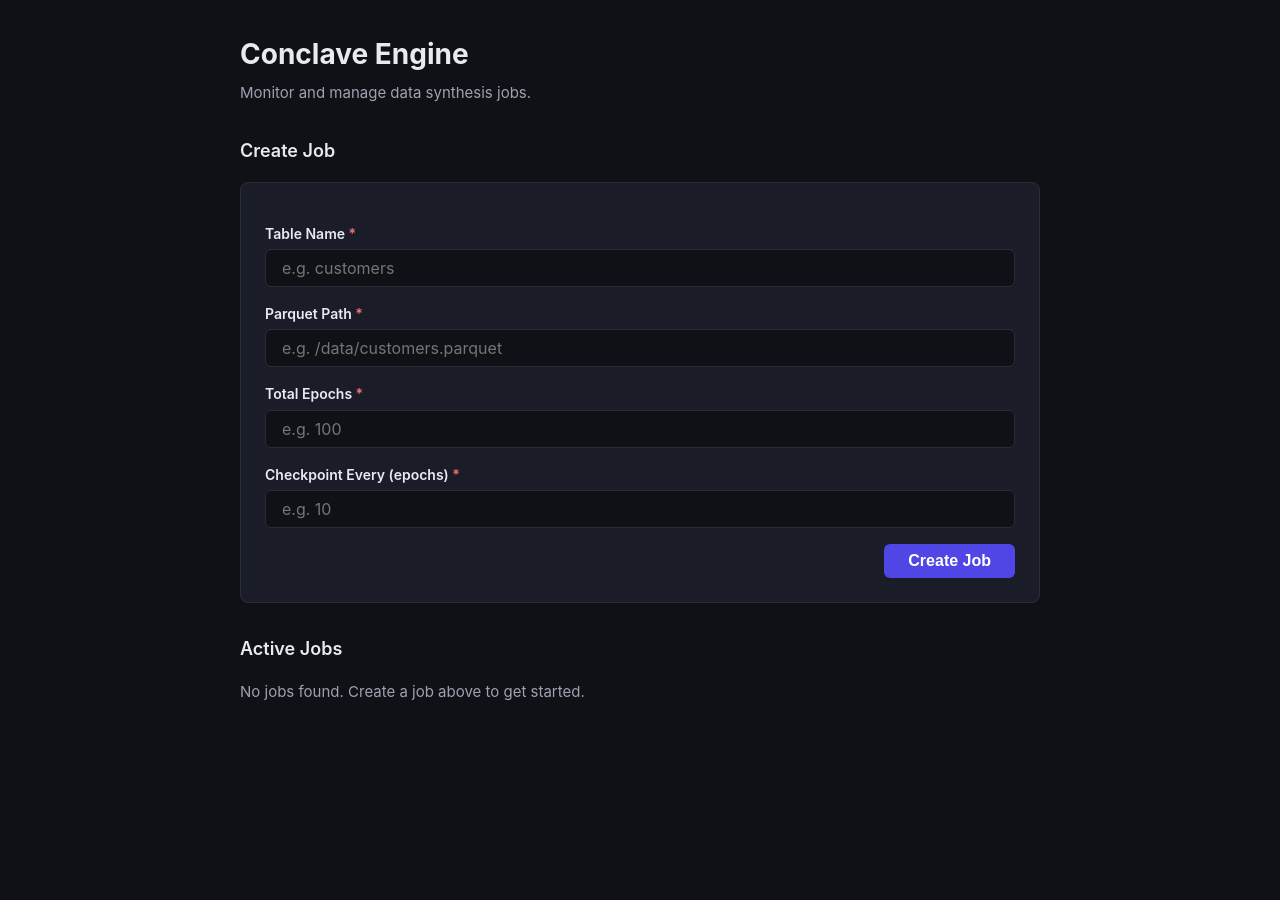
Test: Dashboard — RFC 7807 error handling › renders error toast when createJob fails
This screenshot has width=1280, height=900.
Type "customers" into the field labelled "Table Name *". click: (640, 268)
box: [265,249,1015,287]
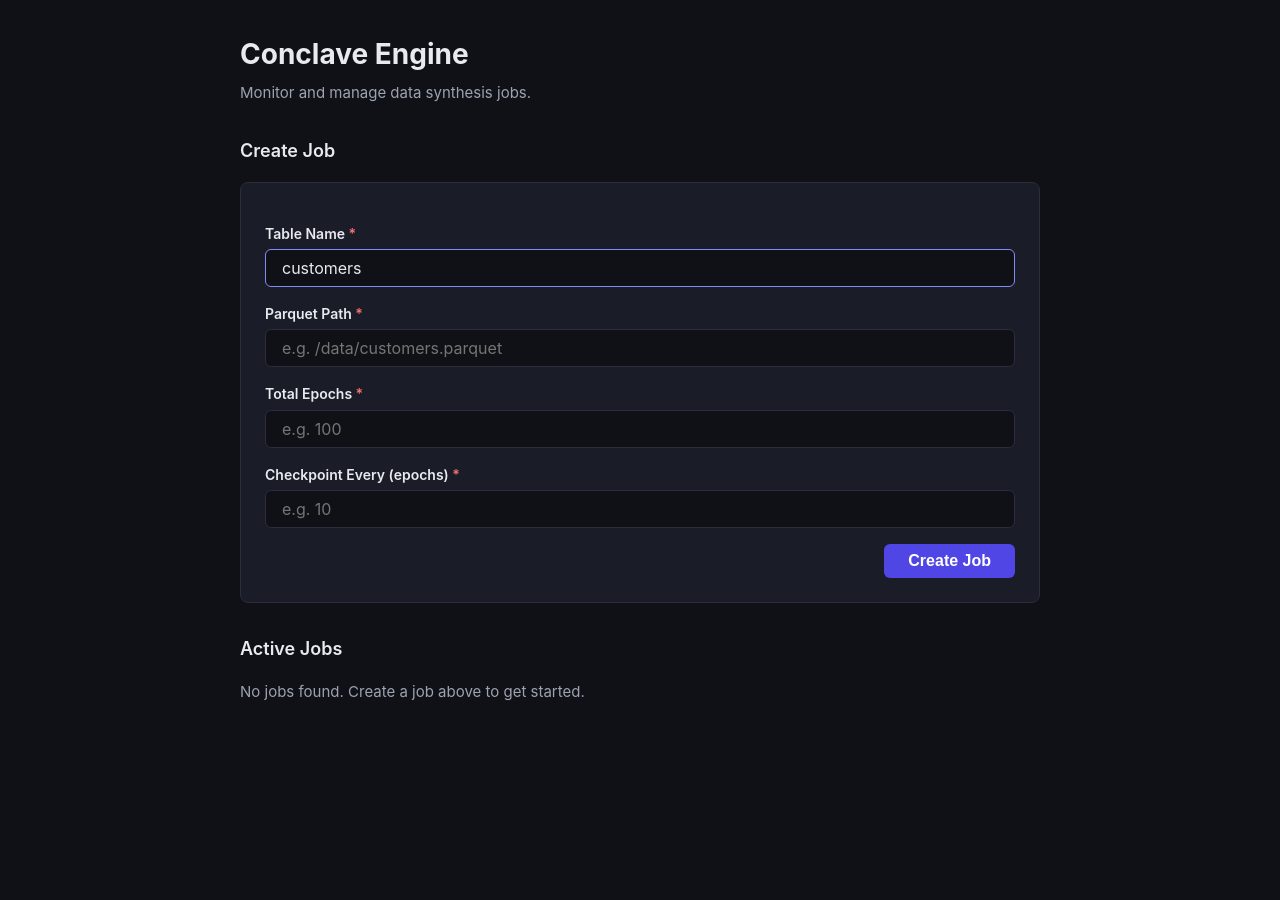
Type "/data/customers.parquet" into the field labelled "Parquet Path *". click: (640, 348)
box: [265,329,1015,367]
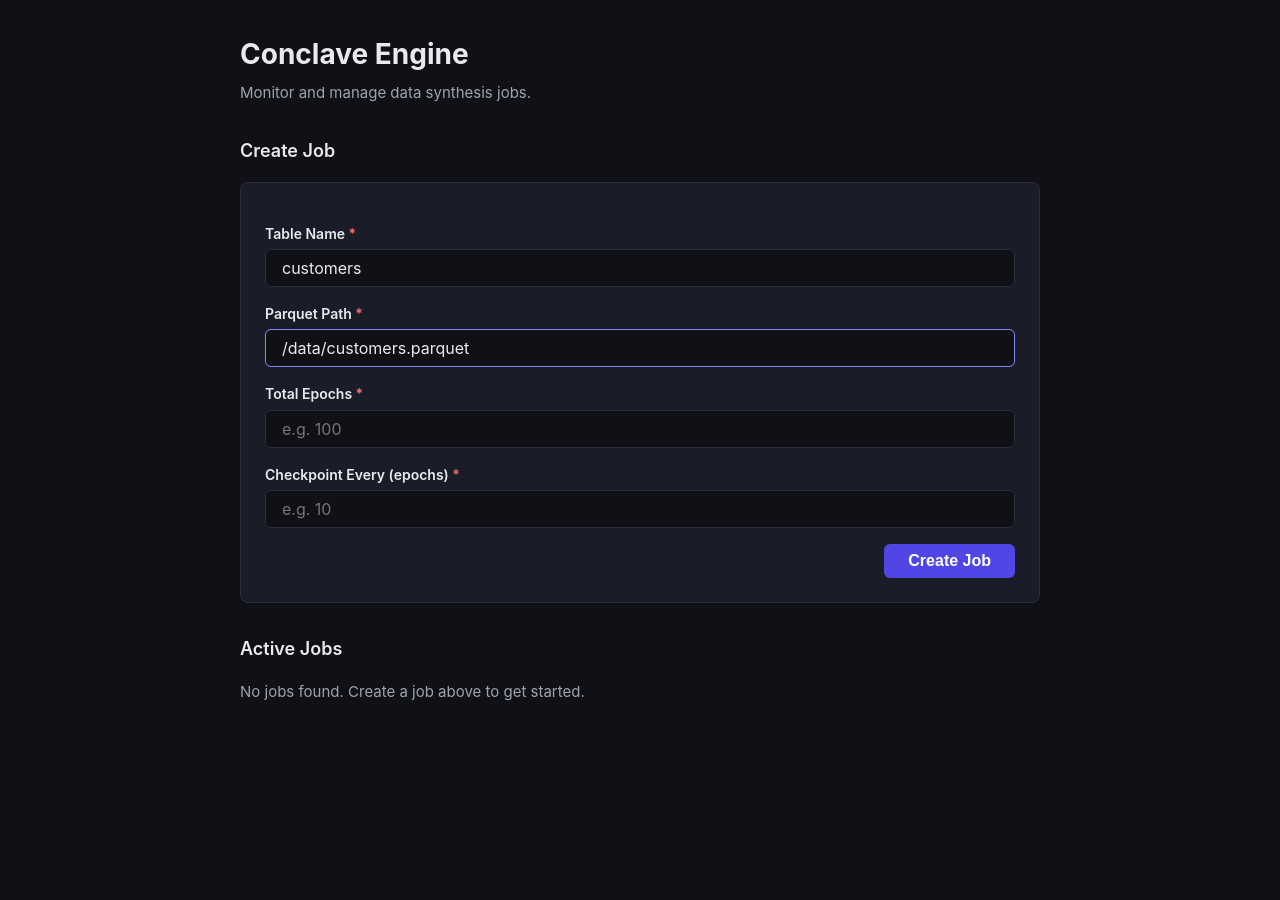
Type "10" into the number field labelled "Total Epochs *". click: (640, 429)
box: [265,410,1015,448]
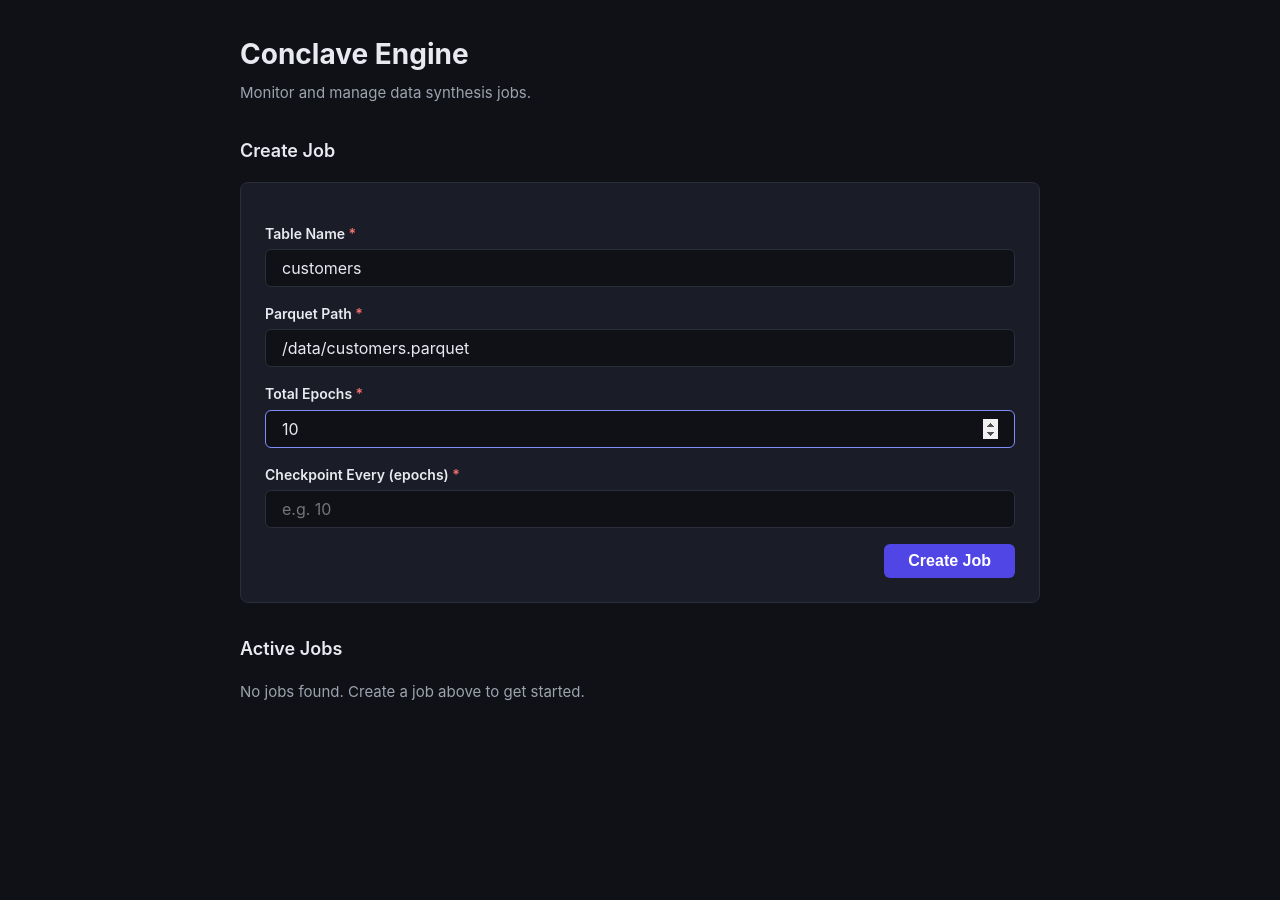
Type "2" into the number field labelled "Checkpoint Every (epochs) *". click: (640, 509)
box: [265,490,1015,528]
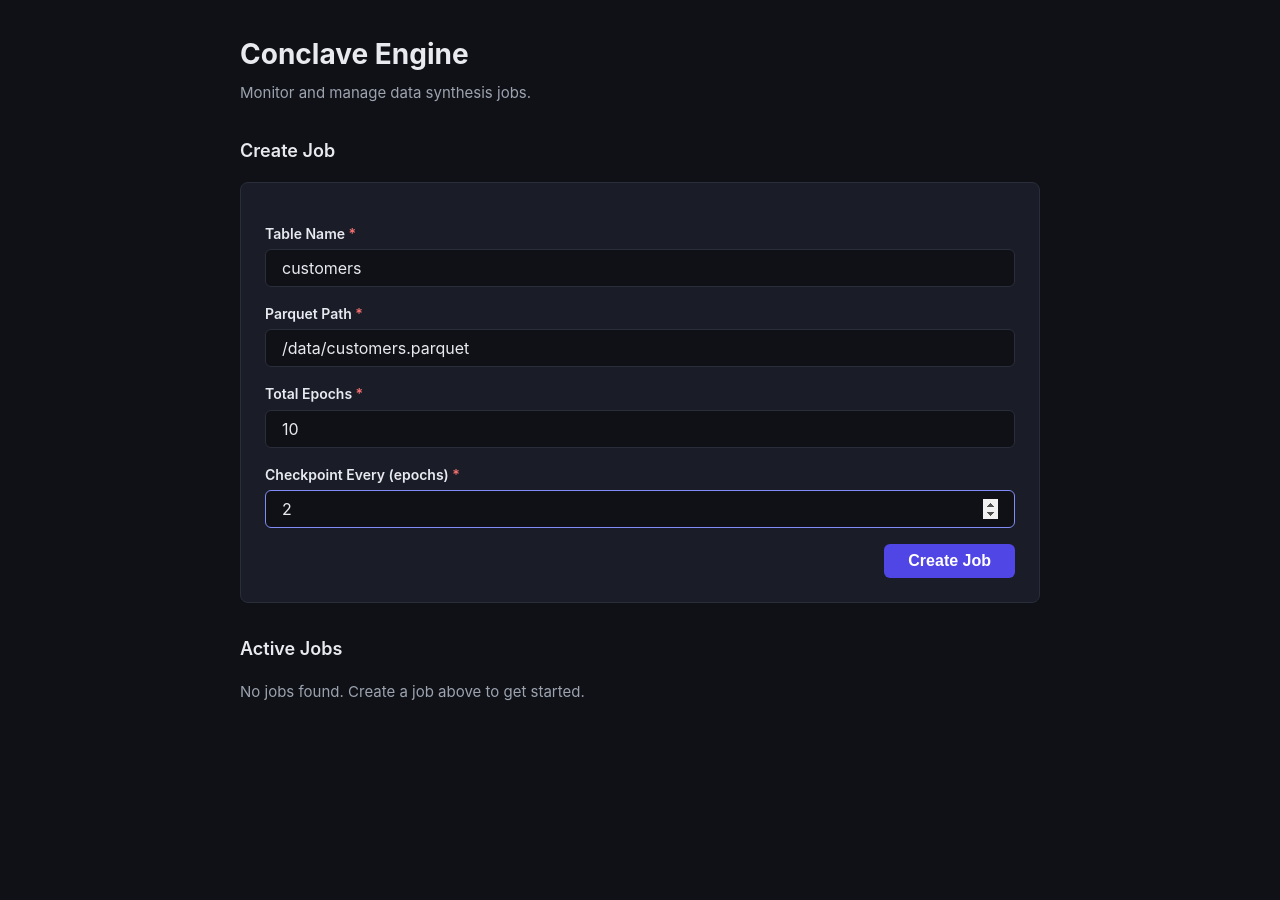
Click the button "Create Job". click: (950, 561)
box: [884,544,1015,578]
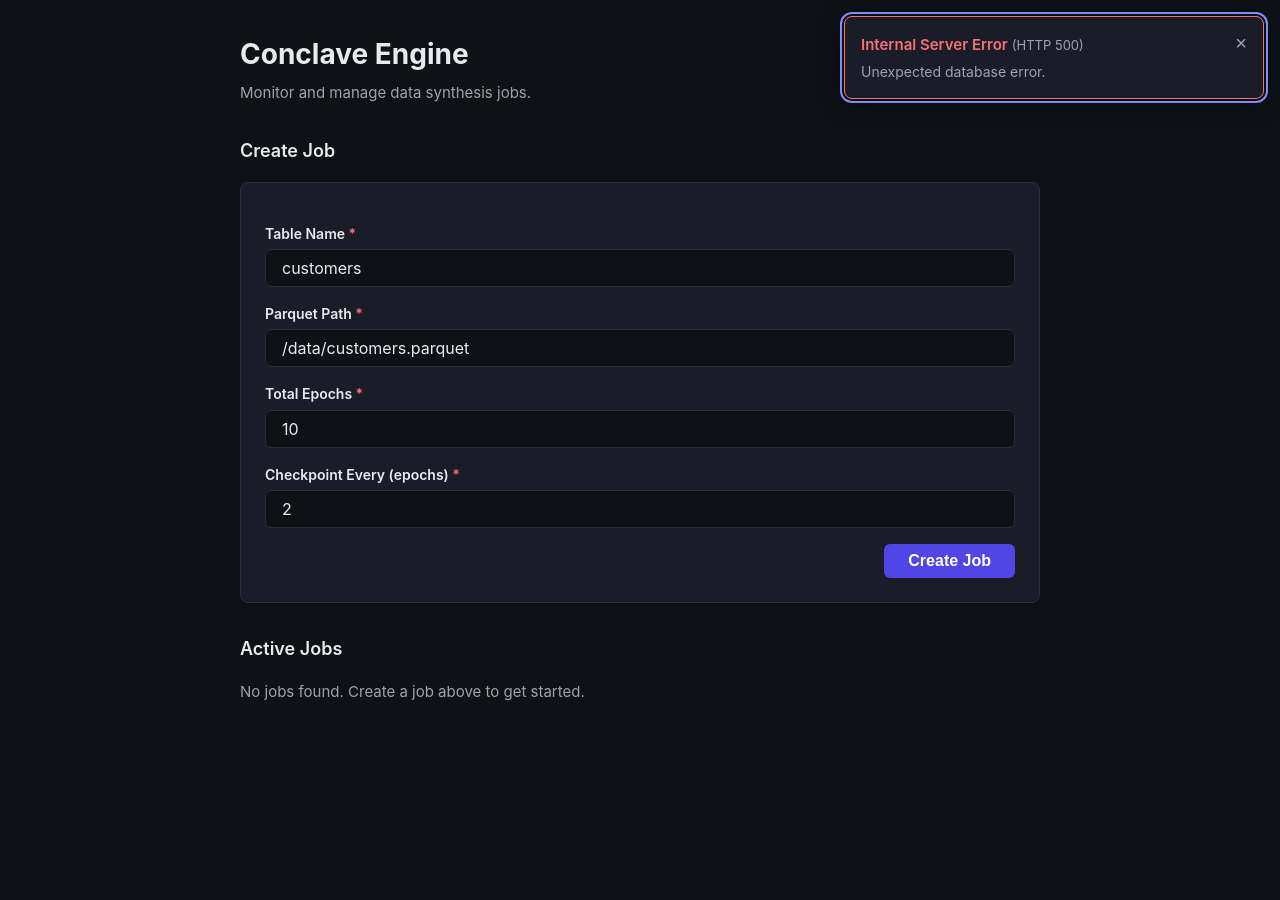
Check: the dialog is shown, box [844,16,1264,99]
Check: the text "Internal Server Error (HTTP 500)" is shown, box [861,35,1084,54]
